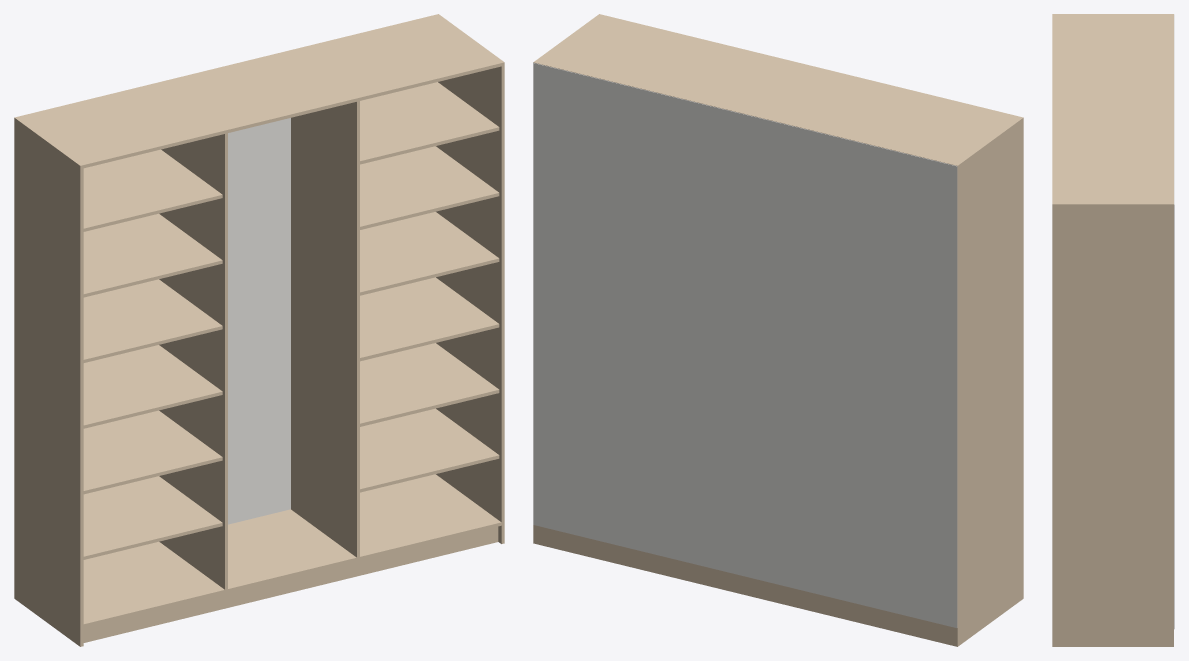
The model's file is wardrobe_3sec_niche_open.glb.
3 renders of one model, left to right at view 1: azimuth 30°, elevation 25°; view 2: azimuth 150°, elevation 25°; view 3: azimuth 270°, elevation 25°, orthographic. The views are drawn at different scales.
Visible parts, largest first — view 1: 1:body.side.left, 8:partition[1], 3:body.top, 21:body.back[1], 4:body.bottom, 2:body.side.right, 7:partition[0], 10:sections[0].fill[0].shelf[2], 11:sections[0].fill[0].shelf[3], 13:sections[0].fill[0].shelf[5], 9:sections[0].fill[0].shelf[1], 12:sections[0].fill[0].shelf[4] (+8 smaller); view 2: 21:body.back[1], 22:body.back[2], 1:body.side.left, 3:body.top, 6:body.plinth.back; view 3: 2:body.side.right, 3:body.top, 22:body.back[2].
Part boxes in pixels (x1,y1,x2,y2): 1:body.side.left: (14,121,83,646); 8:partition[1]: (291,101,359,557); 3:body.top: (14,14,504,168); 21:body.back[1]: (228,118,290,524); 4:body.bottom: (83,474,501,627); 2:body.side.right: (436,65,504,543); 7:partition[0]: (159,133,227,589); 10:sections[0].fill[0].shelf[2]: (83,410,222,494); 11:sections[0].fill[0].shelf[3]: (83,345,222,428); 13:sections[0].fill[0].shelf[5]: (83,213,222,297); 9:sections[0].fill[0].shelf[1]: (83,476,222,559); 12:sections[0].fill[0].shelf[4]: (83,279,222,362); 21:body.back[1]: (679,98,957,627); 22:body.back[2]: (533,63,679,560); 1:body.side.left: (954,121,1023,646); 3:body.top: (533,14,1023,168); 6:body.plinth.back: (536,525,954,645); 2:body.side.right: (1052,207,1173,646); 3:body.top: (1052,14,1173,207); 22:body.back[2]: (1174,139,1174,629).
Size of the model in its own units: 2.4 by 2.6 by 0.65.
